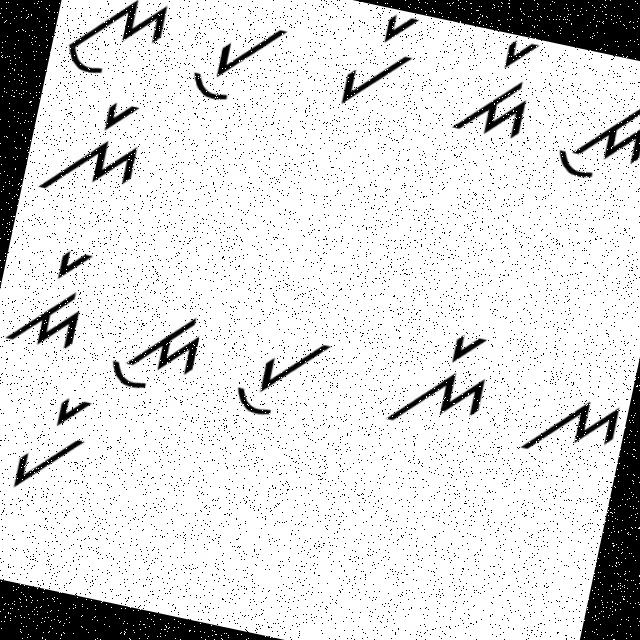dar: (1, 233, 106, 360), (447, 28, 550, 154)
daw: (98, 290, 212, 406), (539, 82, 639, 195)
na: (509, 373, 625, 470)
nar: (382, 314, 512, 448), (38, 82, 158, 212)
naw: (53, 0, 174, 95)
par: (0, 385, 102, 504), (330, 3, 428, 118)
paw: (182, 1, 298, 119), (226, 318, 340, 435)
